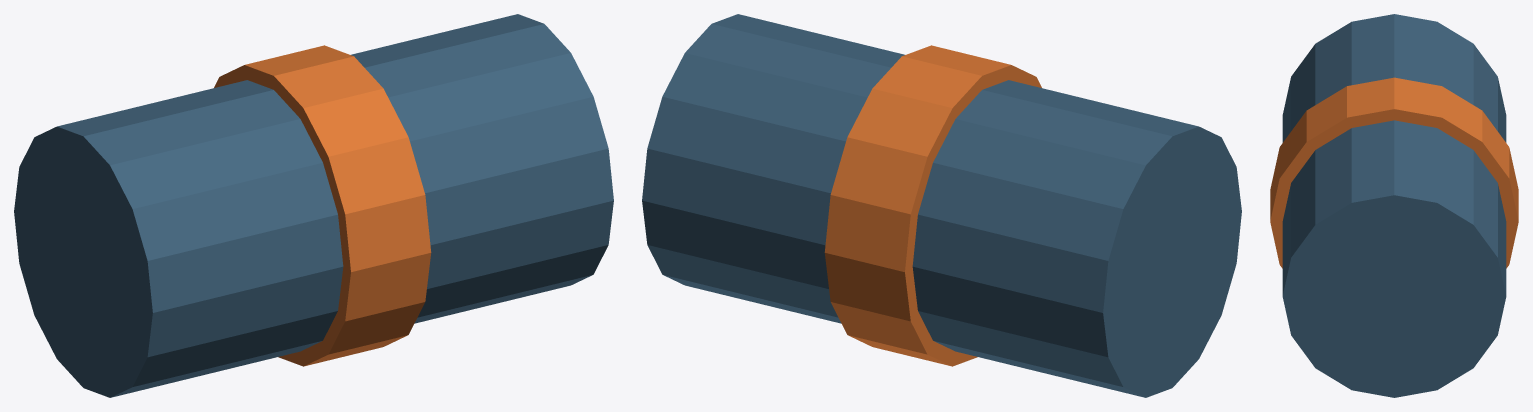
Rendered from 07_L69_LiquidLineFilterDrier.fbx.
3 renders of one model, left to right at view 1: azimuth 30°, elevation 25°; view 2: azimuth 150°, elevation 25°; view 3: azimuth 270°, elevation 25°, orthographic. The views are drawn at different scales.
Visible parts, largest first — view 1: LiquidLineFilterDrier; view 2: LiquidLineFilterDrier; view 3: LiquidLineFilterDrier.
Boxes of the visible parts, left/top/right/bottom form: LiquidLineFilterDrier: left=14, top=14, right=613, bottom=397; LiquidLineFilterDrier: left=642, top=14, right=1241, bottom=397; LiquidLineFilterDrier: left=1270, top=14, right=1518, bottom=397.
Size of the model in its own units: 69 by 40 by 40.
